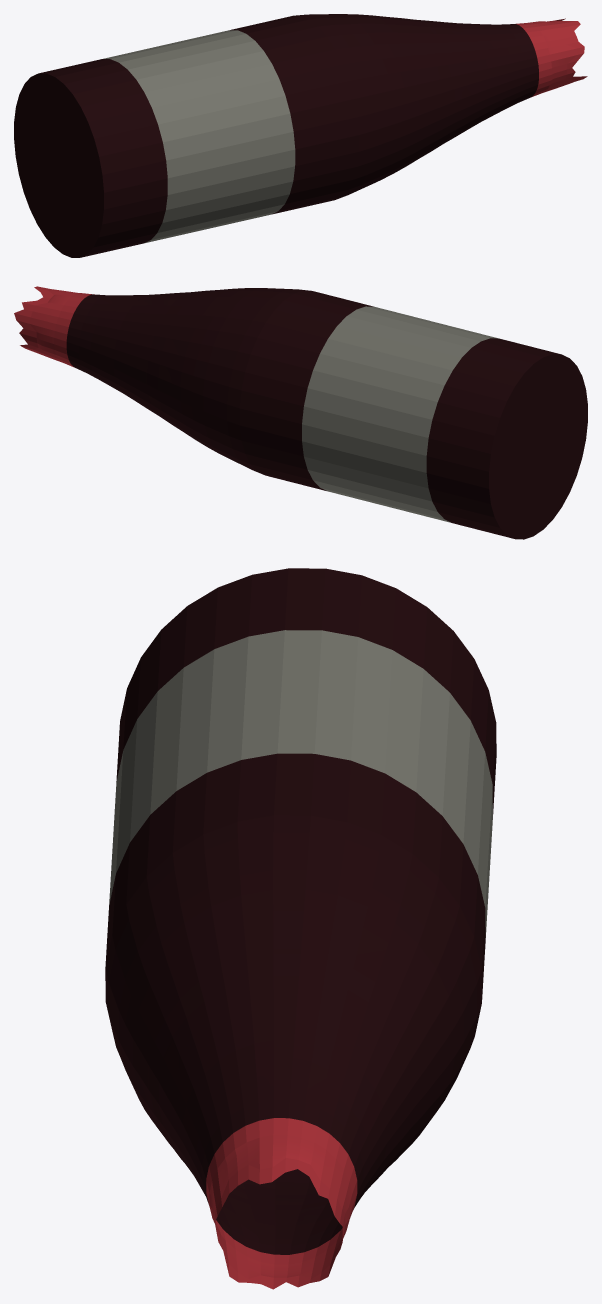
The model's file is sc_bottle.gltf.
3 views of the same model, one above another, from view 1: azimuth 30°, elevation 25°; view 2: azimuth 150°, elevation 25°; view 3: azimuth 270°, elevation 25° (orthographic). The views are drawn at different scales.
Parts seen in each view (by area): view 1: RedWine; view 2: RedWine; view 3: RedWine.
Boxes of the visible parts, box(x1,y1,x2,y2) form: RedWine: box(14, 14, 587, 257); RedWine: box(14, 286, 587, 539); RedWine: box(105, 568, 496, 1289).
Bounding box in the file's own units: 0.3929 × 0.1248 × 0.1289.
